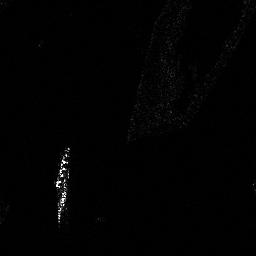ship: (55, 146, 71, 189)
